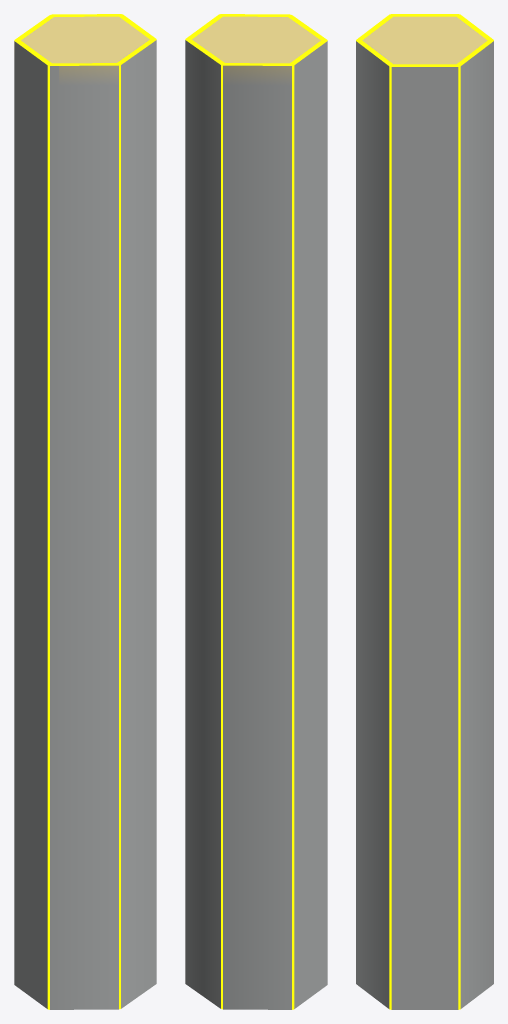
The model's file is Hexa_1_LP_IntegrationIntegration.fbx.
The picture shows the model from 3 angles, left to right: view 1: azimuth 30°, elevation 25°; view 2: azimuth 150°, elevation 25°; view 3: azimuth 270°, elevation 25°; orthographic projection.
Visible parts, largest first — view 1: Tile_Hex_LP_Activated.001; view 2: Tile_Hex_LP_Activated.001; view 3: Tile_Hex_LP_Activated.001.
Part boxes in pixels (x1,y1,x2,y2): Tile_Hex_LP_Activated.001: (14,14,156,1009); Tile_Hex_LP_Activated.001: (185,14,327,1009); Tile_Hex_LP_Activated.001: (356,14,493,1009).
Size of the model in its own units: 180 by 1493 by 198.
2 materials, 1 textured.
